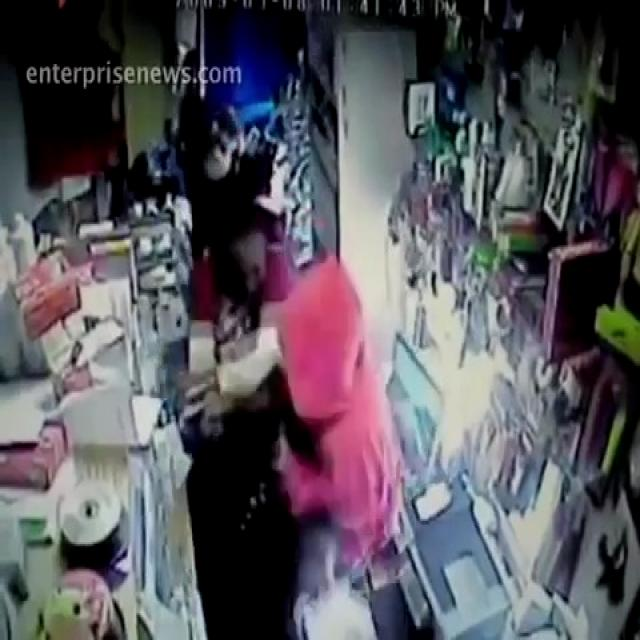fight: (191, 215, 396, 569)
